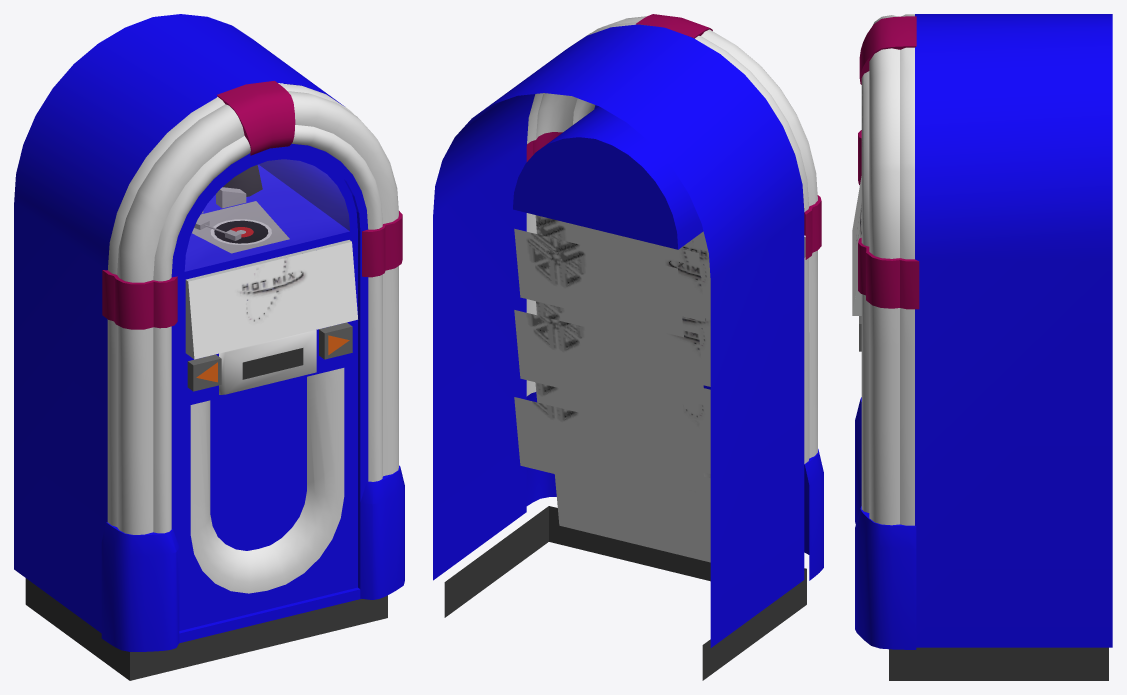
File: jukebox.glb
3 renders of one model, left to right at view 1: azimuth 30°, elevation 25°; view 2: azimuth 150°, elevation 25°; view 3: azimuth 270°, elevation 25°, orthographic. The views are drawn at different scales.
Visible parts, largest first — view 1: case, tube-2, front, tube-4, speaker, trim-1, ven-1, tube-1, glass, trim-f, base, inside (+11 smaller); view 2: case, inside, ven-12, ven-4, ven-8, base, ven-14, tube-2, ven-11, ven-3, tube-3, ven-7 (+6 smaller); view 3: case, tube-2, trim-1, base, tube-3, tube-1, trim-2, trim-3, ven-1.
Part boxes in pixels (box(x1,y1,x2,y2)): case: box(14, 14, 344, 633); tube-2: box(117, 91, 398, 534); front: box(179, 152, 357, 630); tube-4: box(190, 368, 344, 593); speaker: box(210, 377, 306, 550); trim-1: box(101, 465, 404, 651); ven-1: box(188, 242, 357, 359); tube-1: box(153, 125, 382, 533); glass: box(185, 159, 349, 271); trim-f: box(171, 143, 368, 643); base: box(25, 578, 387, 680); inside: box(170, 97, 349, 271); case: box(433, 24, 804, 647); inside: box(513, 106, 703, 249); ven-12: box(514, 397, 683, 505); ven-4: box(514, 228, 683, 337); ven-8: box(514, 310, 683, 418); base: box(444, 506, 806, 680); ven-14: box(554, 474, 710, 562); tube-2: box(536, 16, 817, 458); ven-11: box(535, 382, 704, 489); ven-3: box(535, 215, 704, 321); tube-3: box(526, 22, 809, 463); ven-7: box(536, 301, 704, 402); case: box(915, 14, 1112, 647); tube-2: box(869, 15, 899, 525); trim-1: box(855, 397, 916, 649); base: box(889, 647, 1108, 680); tube-3: box(900, 14, 914, 525); tube-1: box(861, 71, 869, 512); trim-2: box(858, 130, 919, 309); trim-3: box(859, 16, 916, 84); ven-1: box(852, 176, 861, 313).
Size of the model in its own units: 1.09 by 2 by 0.8058.
Materials: 35 (20 with a texture image).
